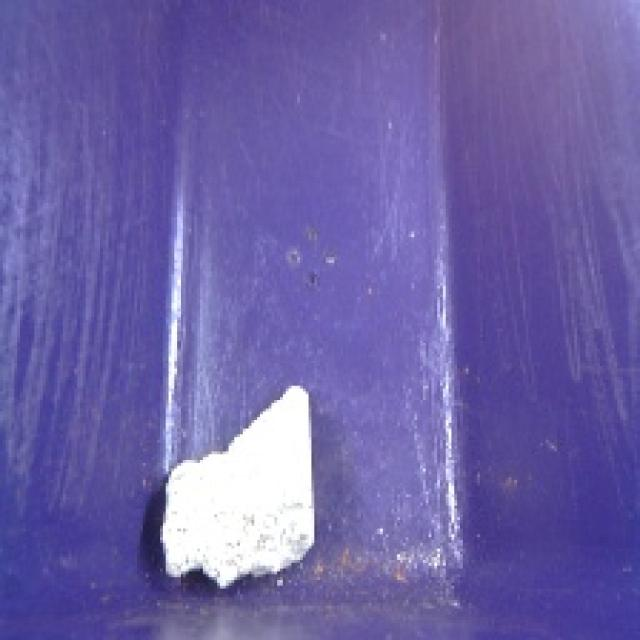brick: (145, 380, 326, 594)
